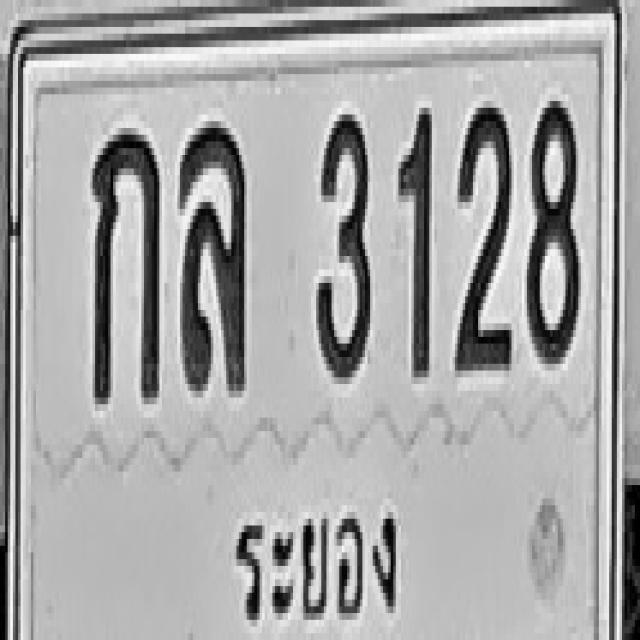1: (396, 101, 432, 377)
10GorGai: (90, 124, 159, 400)
2: (453, 101, 512, 371)
3: (316, 104, 370, 380)
45LorLing: (178, 121, 246, 391)
8: (526, 94, 580, 364)
Rayong: (226, 485, 406, 640)
